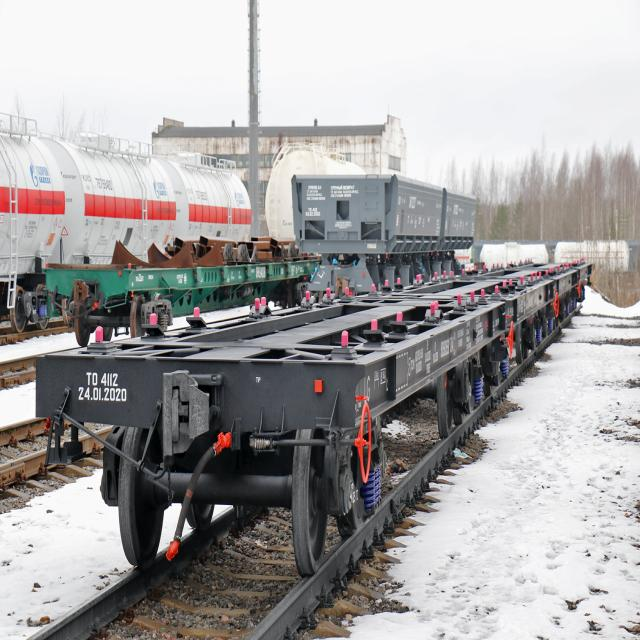flatcar: (29, 286, 514, 584)
tank: (45, 123, 180, 260), (0, 101, 68, 335), (263, 140, 365, 238), (159, 147, 253, 242)
